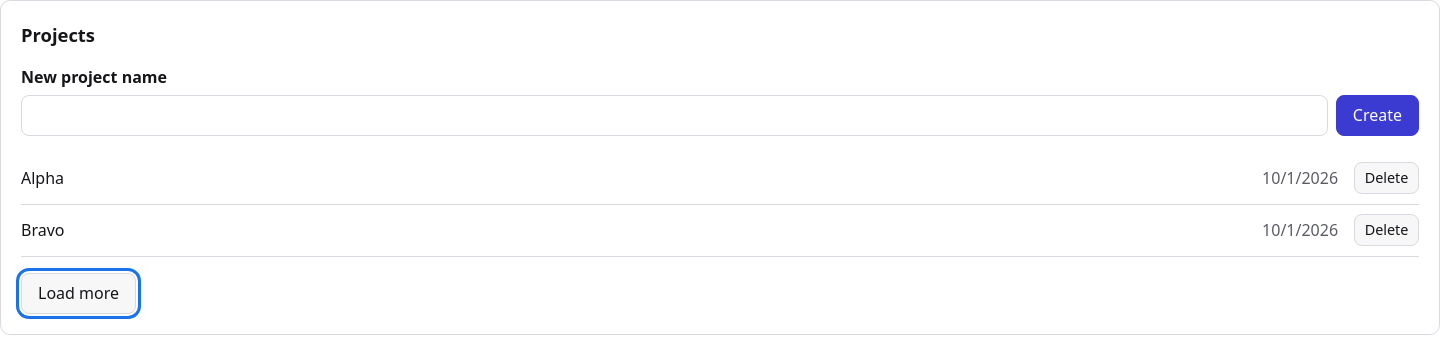
it: projects panel focus while a request runs (FE-09) › leaves focus where the user moved it while Load more ran
This screenshot has width=1440, height=363.
Expected: the text "Alpha" is shown, [21,166,64,188]
Press Enter
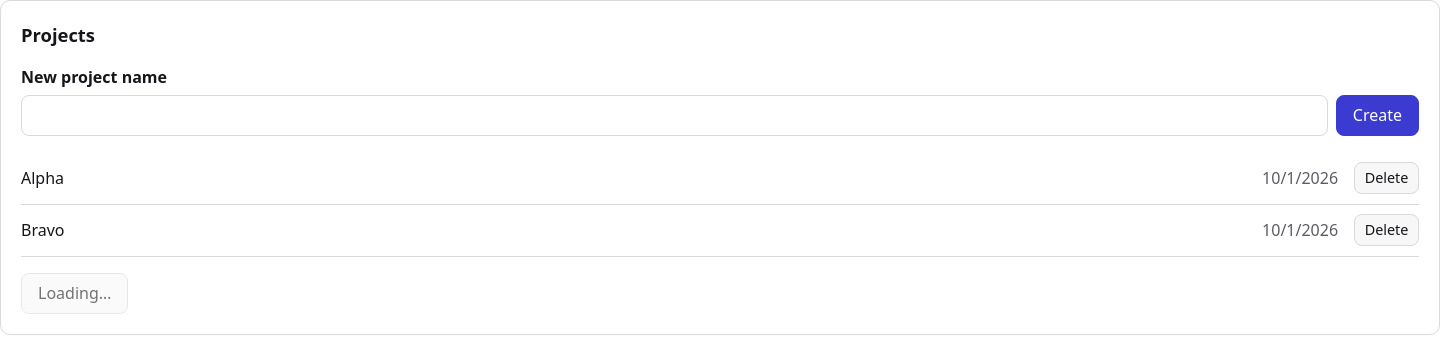
Click the field labelled "New project name" at (674, 116), box [21,95,1328,136]
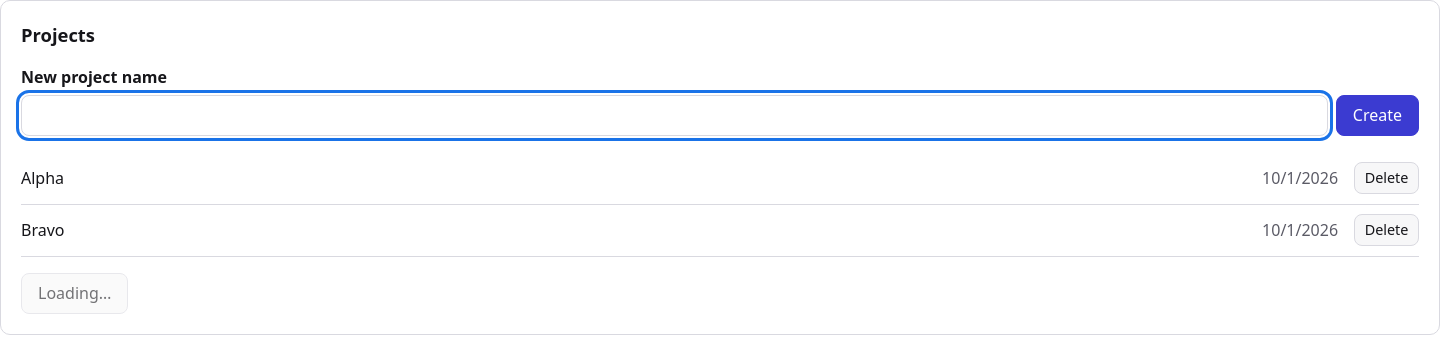
Type keys "Next pro"
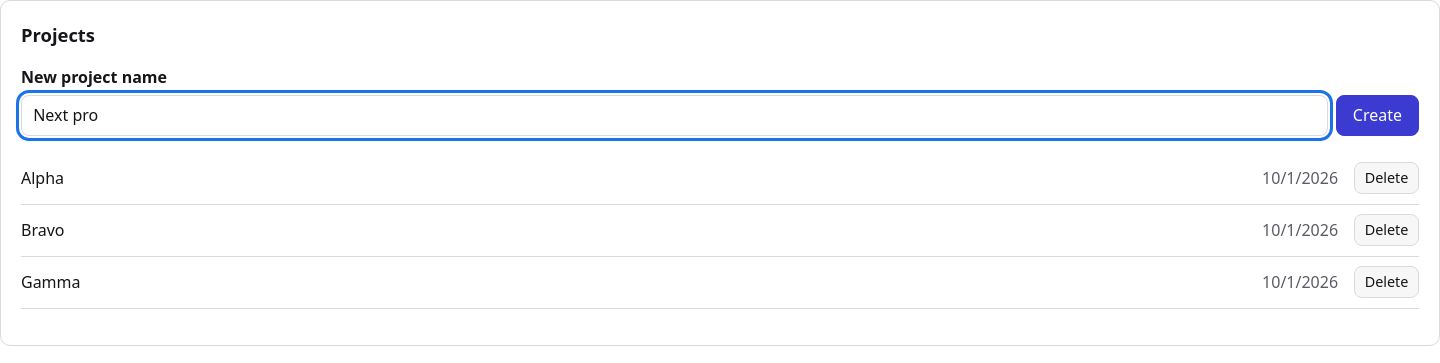
Expected: the text "Gamma" is shown, [21,271,80,293]
